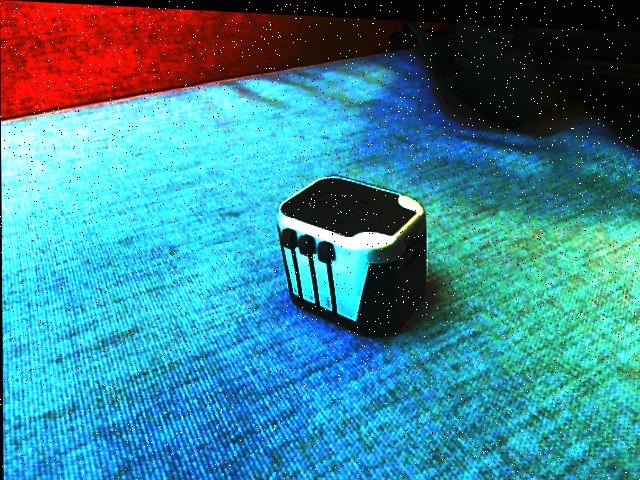adapter: (274, 168, 427, 335)
